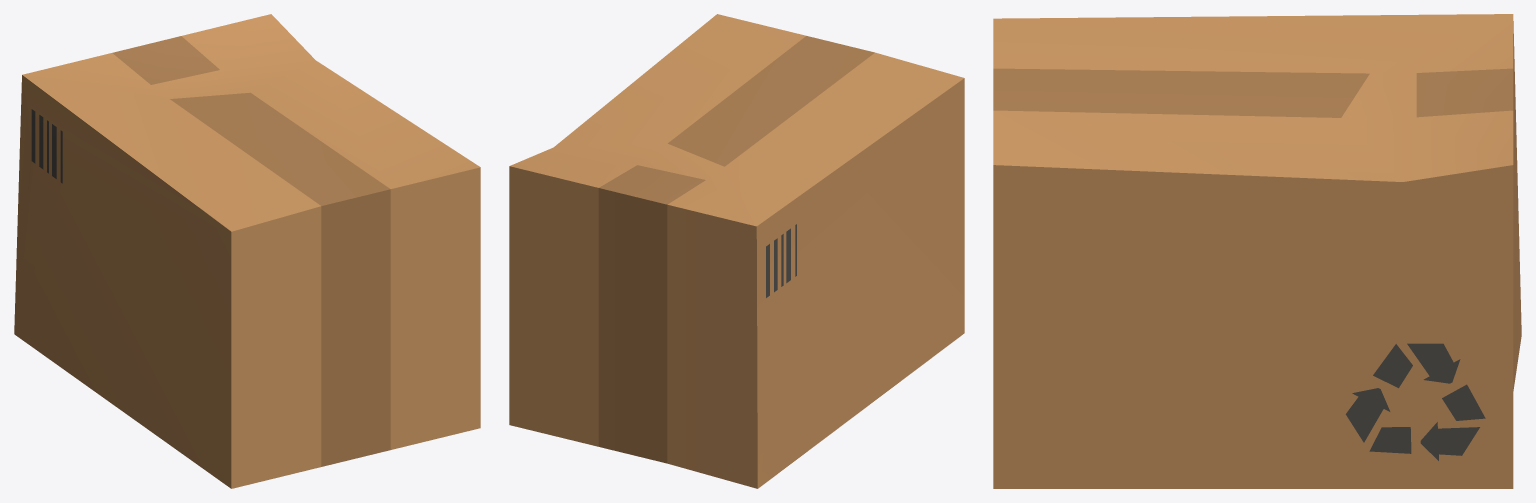
Rendered from CartonBox.fbx.
3 renders of one model, left to right at view 1: azimuth 30°, elevation 25°; view 2: azimuth 150°, elevation 25°; view 3: azimuth 270°, elevation 25°, orthographic. The views are drawn at different scales.
Visible parts, largest first — view 1: Cardboard Box_4; view 2: Cardboard Box_4; view 3: Cardboard Box_4.
Boxes of the visible parts, left/top/right/bottom form: Cardboard Box_4: left=14, top=14, right=480, bottom=488; Cardboard Box_4: left=509, top=14, right=964, bottom=488; Cardboard Box_4: left=993, top=14, right=1521, bottom=488.
Size of the model in its own units: 50.39 by 49.52 by 73.22.
